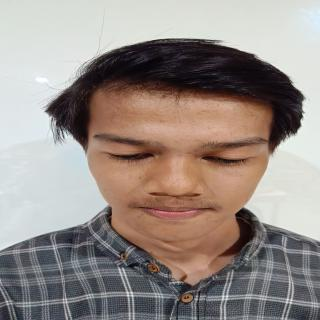Sedih: (83, 78, 288, 251)
